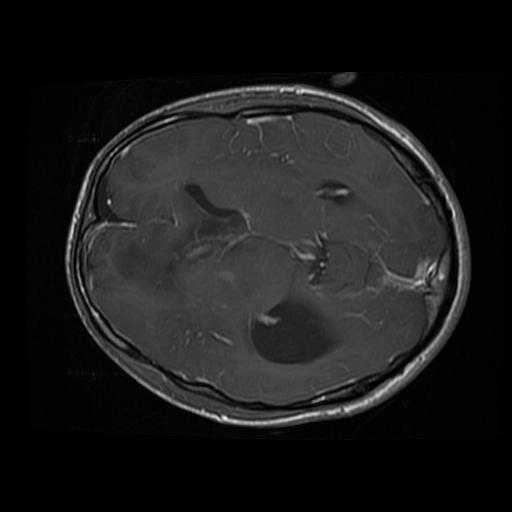glioma: (247, 299, 337, 366)
